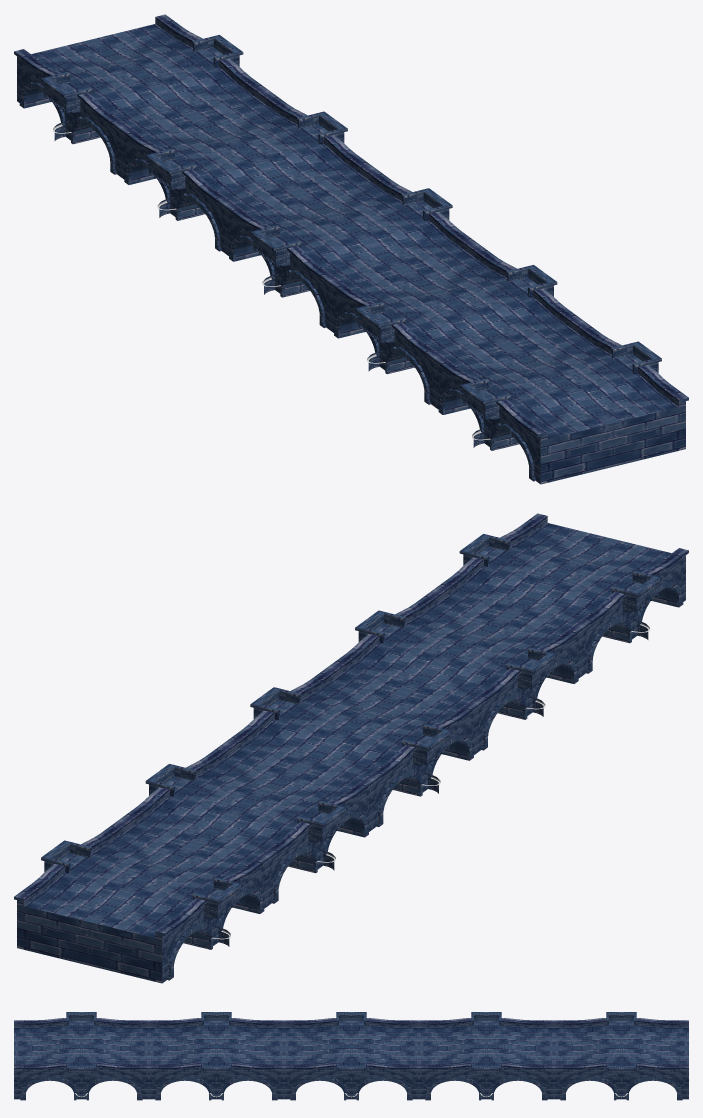
The model's file is FightScene.gltf.
3 renders of one model, top to bottom at view 1: azimuth 30°, elevation 25°; view 2: azimuth 150°, elevation 25°; view 3: azimuth 270°, elevation 25°, orthographic. The views are drawn at different scales.
Parts seen in each view (by area): view 1: main_Bridge (×5), Side_Bridge (×5), Cube.001 (×5); view 2: main_Bridge (×5), Side_Bridge (×5), Cube.001 (×5); view 3: main_Bridge (×5), Side_Bridge (×5), Cube.001 (×5).
Part boxes in pixels (x1,y1,x2,y2): main_Bridge (×5): (14, 14, 688, 484); Side_Bridge (×5): (41, 35, 661, 419); Cube.001 (×5): (19, 82, 535, 481); main_Bridge (×5): (14, 513, 688, 983); Side_Bridge (×5): (41, 534, 661, 918); Cube.001 (×5): (167, 581, 683, 980); main_Bridge (×5): (14, 1018, 688, 1099); Side_Bridge (×5): (66, 1012, 636, 1079); Cube.001 (×5): (20, 1076, 682, 1100).
Size of what is drawn, in the model's own units: 19.71 by 5.97 by 100.
2 materials, 1 textured.
